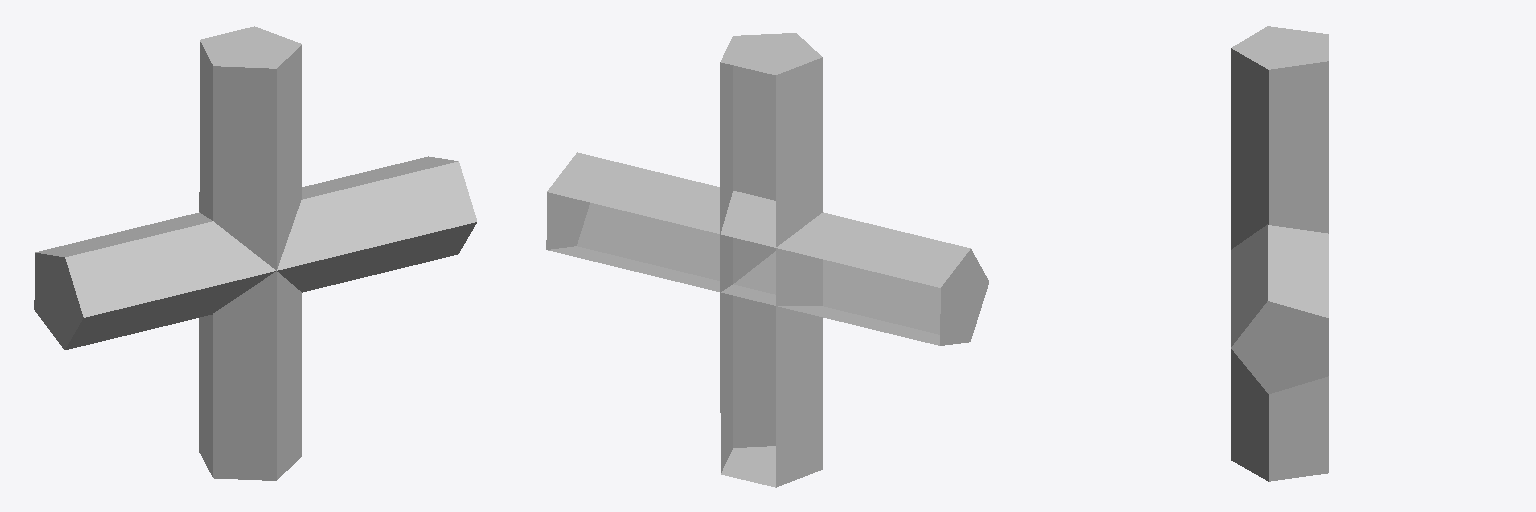
Rendered from campfire_collision.obj.
3 renders of one model, left to right at view 1: azimuth 30°, elevation 25°; view 2: azimuth 150°, elevation 25°; view 3: azimuth 270°, elevation 25°, orthographic.
Size of the model in its own units: 5.99 by 5.99 by 1.3.